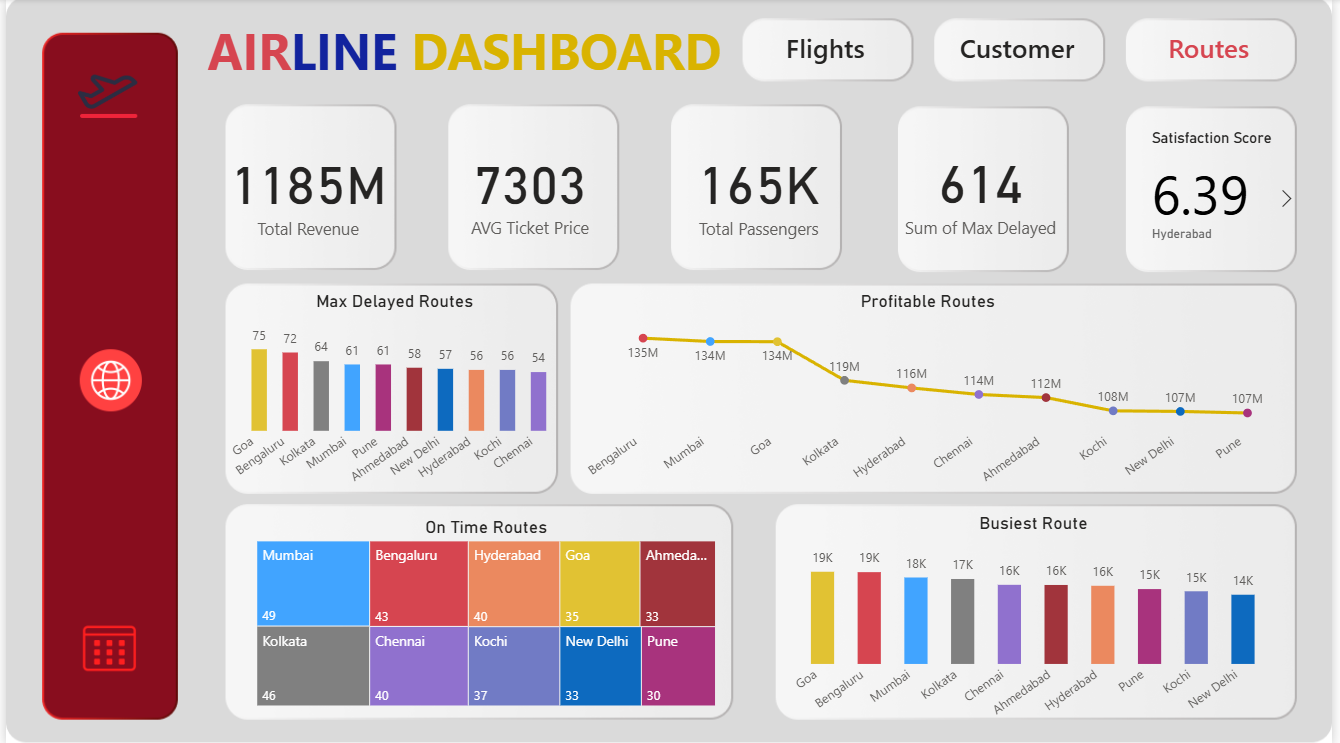

The dashboard page shown, as its layout file describes it:
{"tool":"powerbi","page":{"name":"Routes","canvas":[1280,720],"ordinal":2},"visuals":[{"type":"card","fields":{"Values":["Sum(Airline.Revenue)"]},"box":[209.9,135.1,167.7,100.1],"z":0},{"type":"card","fields":{"Values":["Avg(Airline.Ticket_Price)"]},"box":[434.3,133.9,147.2,101.3],"z":1000},{"type":"card","fields":{"Values":["Sum(Airline.Passengers)"]},"box":[639.4,127.9,178.6,114.6],"z":2000},{"type":"clusteredColumnChart","title":"Busiest Route","fields":{"Category":["Airline_Map.City"],"Y":["Sum(Airline.Passengers)"]},"box":[754,495.8,475.3,211.1],"z":3000},{"type":"lineChart","title":"Profitable Routes","fields":{"Category":["Airline_Map.City"],"Y":["Sum(Airline.Revenue)"]},"box":[550.1,281.1,679.2,197.9],"z":4000},{"type":"columnChart","title":"Max Delayed Routes","fields":{"Category":["Airline_Map.City"],"Y":["Sum(Airline.Max Delayed)"]},"box":[211.1,281.1,328.2,197.9],"z":5000},{"type":"card","fields":{"Values":["Sum(Airline.Max Delayed)"]},"box":[864.2,114.8,158,139.5],"z":6000},{"type":"treemap","title":"On Time Routes","fields":{"Group":["Airline_Map.City"],"Values":["Airline.on time"]},"box":[238.3,500,451.9,187.7],"z":7000},{"type":"advancedSlicerVisual","title":"Satisfaction Score","fields":{"Values":["Airline_Map.City"]},"box":[1081,125.5,165.3,117],"z":8000},{"type":"pageNavigator","box":[703.4,15.7,546.5,61.5],"z":9000},{"type":"image","box":[62.5,38.7,72.9,105.7],"z":10000},{"type":"image","box":[66.3,302.9,69.9,130.8],"z":12000},{"type":"image","box":[43,593.2,112.9,66.3],"z":14000},{"type":"textbox","box":[189.4,12.1,513.9,76],"z":16000}]}

Visuals, with their boxes in screenshot pixels (x1, y1, x2, y2), scaled from the page's 1280x720 canvas onto the 1340x743 screenshot:
card - Sum(Airline.Revenue): x1=220, y1=139, x2=395, y2=243
card - Avg(Airline.Ticket_Price): x1=455, y1=138, x2=609, y2=243
card - Sum(Airline.Passengers): x1=669, y1=132, x2=856, y2=250
"Busiest Route" clusteredColumnChart: x1=789, y1=512, x2=1287, y2=729
"Profitable Routes" lineChart: x1=576, y1=290, x2=1287, y2=494
"Max Delayed Routes" columnChart: x1=221, y1=290, x2=565, y2=494
card - Sum(Airline.Max Delayed): x1=905, y1=118, x2=1070, y2=262
"On Time Routes" treemap: x1=249, y1=516, x2=723, y2=710
"Satisfaction Score" advancedSlicerVisual: x1=1132, y1=130, x2=1305, y2=250
pageNavigator: x1=736, y1=16, x2=1308, y2=80
image: x1=65, y1=40, x2=142, y2=149
image: x1=69, y1=313, x2=143, y2=448
image: x1=45, y1=612, x2=163, y2=681
textbox: x1=198, y1=12, x2=736, y2=91
